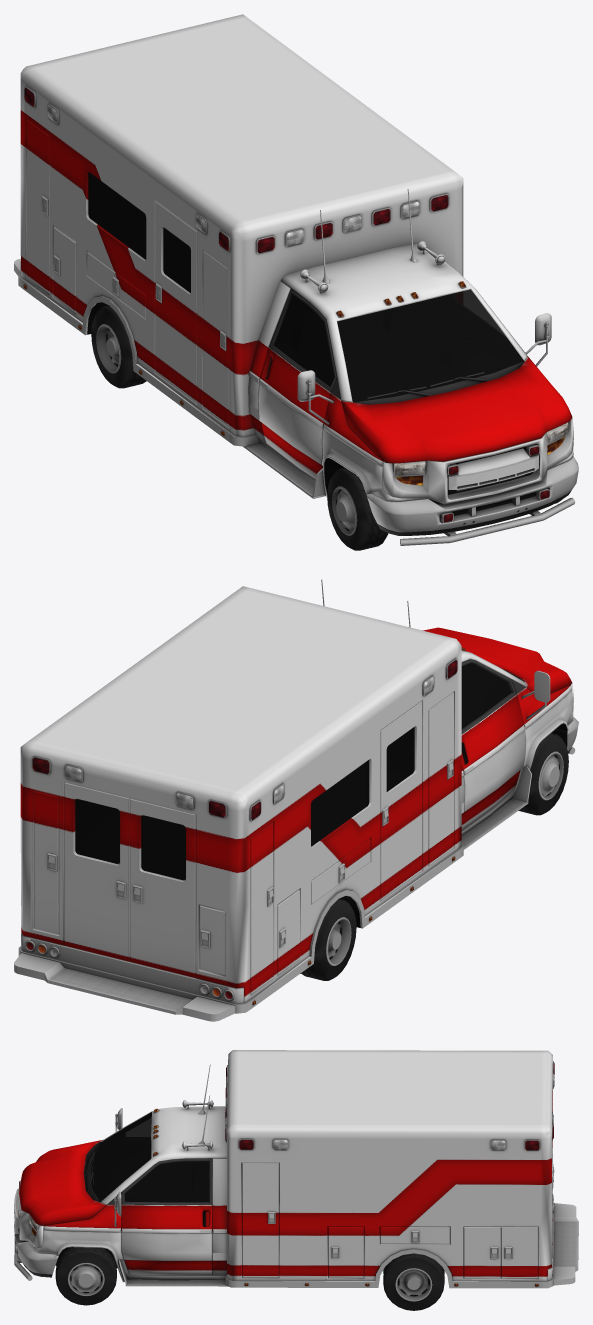
Rendered from veicolo_ambulanza.glb.
3 renders of one model, top to bottom at view 1: azimuth 30°, elevation 25°; view 2: azimuth 150°, elevation 25°; view 3: azimuth 270°, elevation 25°, orthographic. The views are drawn at different scales.
Parts seen in each view (by area): view 1: sb_modello; view 2: sb_modello; view 3: sb_modello.
Part boxes in pixels (x1,y1,x2,y2): sb_modello: [14, 14, 578, 550]; sb_modello: [14, 579, 578, 1021]; sb_modello: [14, 1050, 578, 1310].
Bounding box in the file's own units: 2.59 × 2.57 × 6.9.
3 materials, 3 textured.
